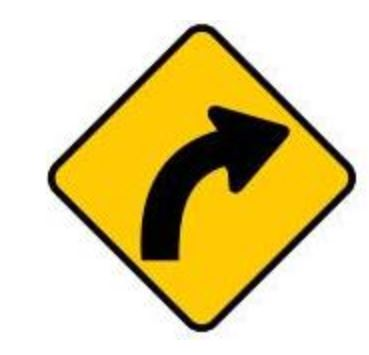right: (120, 41, 361, 308), (167, 16, 321, 206), (135, 105, 292, 263), (163, 97, 294, 202), (181, 70, 301, 167), (198, 85, 276, 203), (255, 111, 338, 199), (207, 141, 278, 218), (243, 103, 304, 192)
